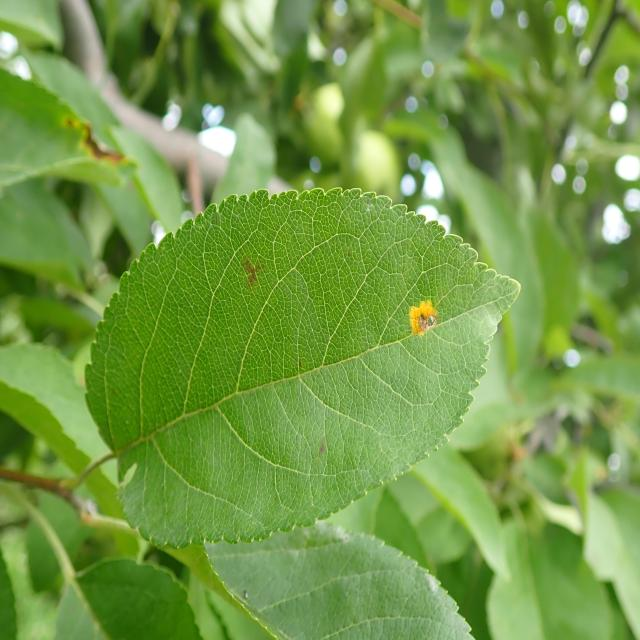Rust: (395, 281, 445, 340)
